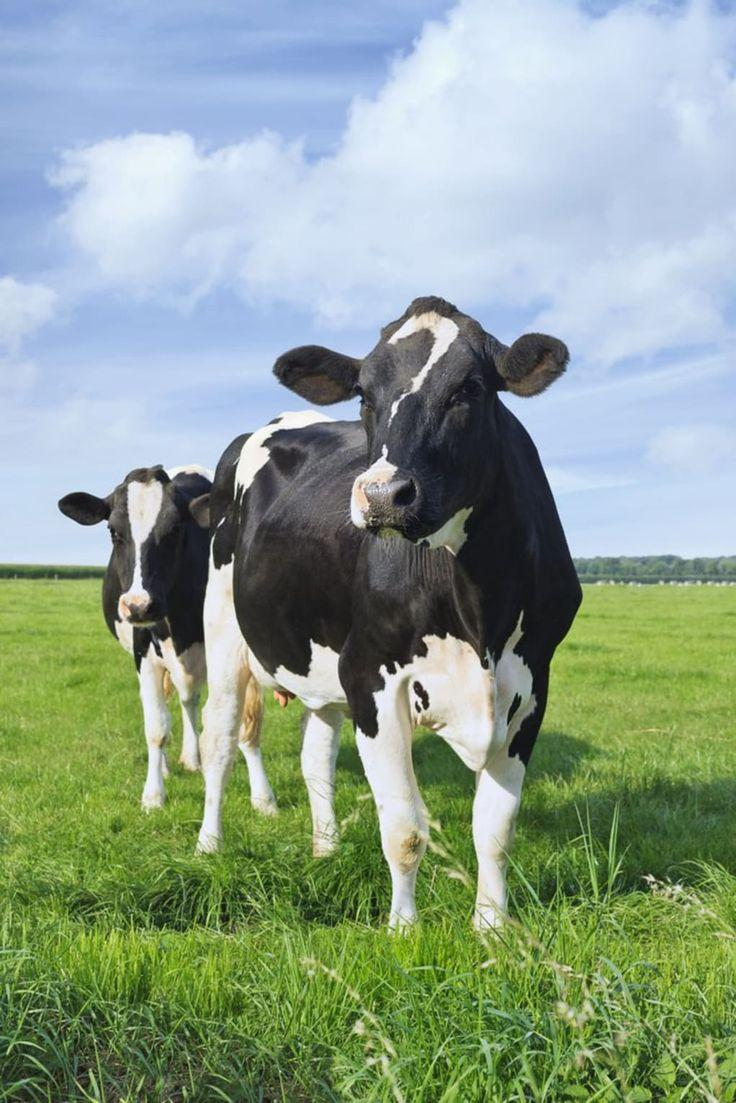cow: (110, 210, 687, 927)
